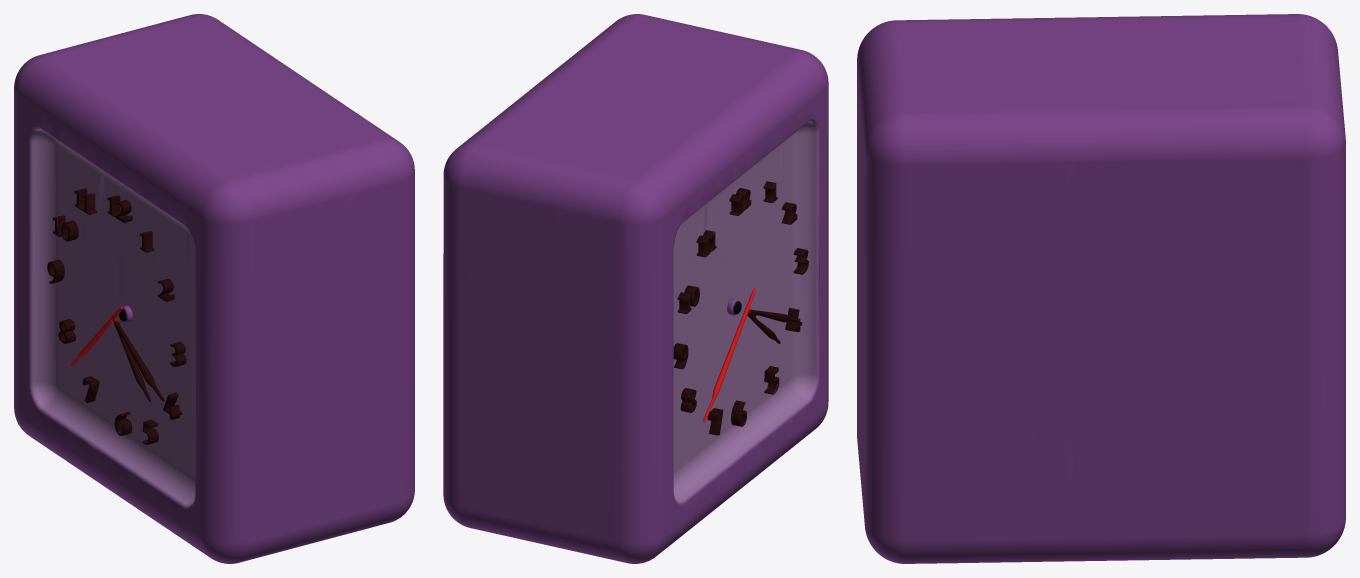
The model's file is Clock.glb.
The picture shows the model from 3 angles, left to right: view 1: azimuth 30°, elevation 25°; view 2: azimuth 150°, elevation 25°; view 3: azimuth 270°, elevation 25°; orthographic projection. The views are drawn at different scales.
Parts seen in each view (by area): view 1: Area (4); view 2: Area (4); view 3: Area (4).
Part boxes in pixels (x1,y1,x2,y2): Area (4): [14, 14, 414, 563]; Area (4): [443, 14, 828, 563]; Area (4): [857, 14, 1345, 563].
Bounding box in the file's own units: 77.74 × 126 × 125.
Materials: 1 (1 with a texture image).
